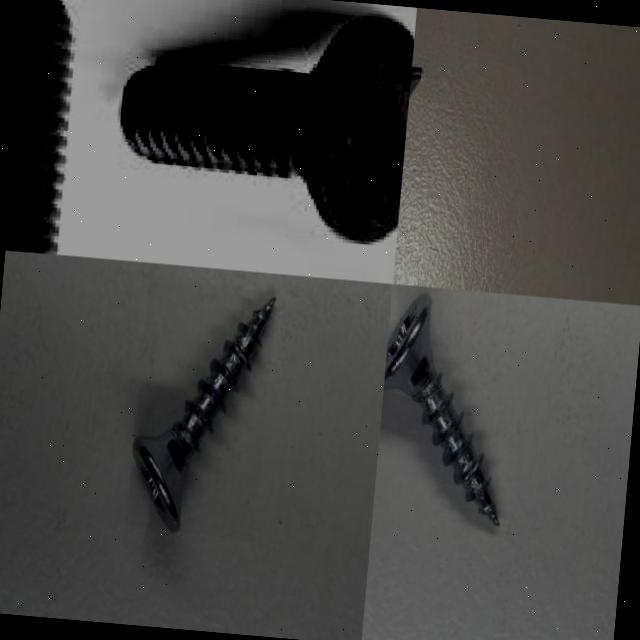Screw: (117, 18, 414, 239), (371, 285, 521, 533), (132, 298, 275, 532), (5, 0, 75, 254)
